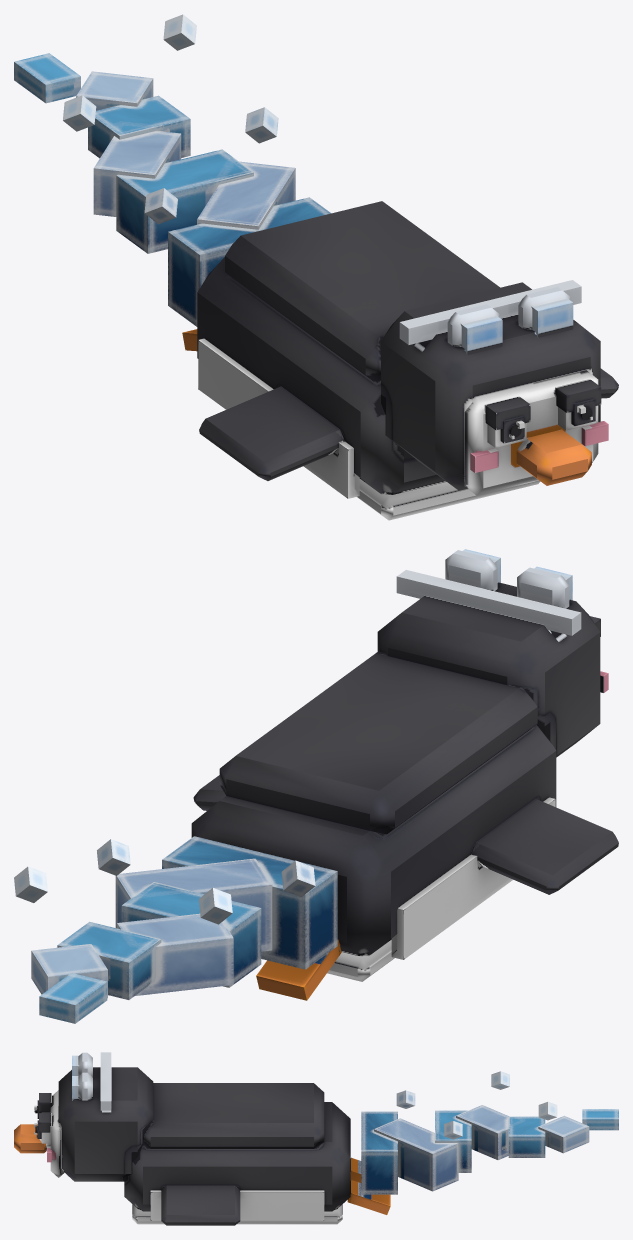
The model's file is PingouinComete_Rig.fbx.
3 renders of one model, top to bottom at view 1: azimuth 30°, elevation 25°; view 2: azimuth 150°, elevation 25°; view 3: azimuth 270°, elevation 25°, orthographic. The views are drawn at different scales.
Parts seen in each view (by area): view 1: Body, Head, Trail, WingR; view 2: Body, Trail, Head, WingR, LegR, WingL; view 3: Body, Trail, Head, WingL, LegL, LegR.
Boxes of the visible parts, x1,y1,x2,y2 form: Body: [197, 201, 540, 520]; Head: [381, 280, 608, 495]; Trail: [14, 14, 331, 326]; WingR: [199, 386, 344, 480]; Body: [191, 651, 556, 981]; Trail: [14, 836, 337, 1023]; Head: [377, 549, 608, 757]; WingR: [471, 799, 618, 894]; LegR: [256, 939, 341, 1000]; WingL: [193, 775, 226, 810]; Body: [124, 1083, 350, 1224]; Trail: [361, 1071, 618, 1194]; Head: [14, 1052, 153, 1181]; WingL: [161, 1185, 240, 1225]; LegL: [347, 1180, 390, 1214]; LegR: [350, 1157, 361, 1182].
Size of the model in its own units: 9.66 by 6 by 24.21.
Materials: 1 (1 with a texture image).
